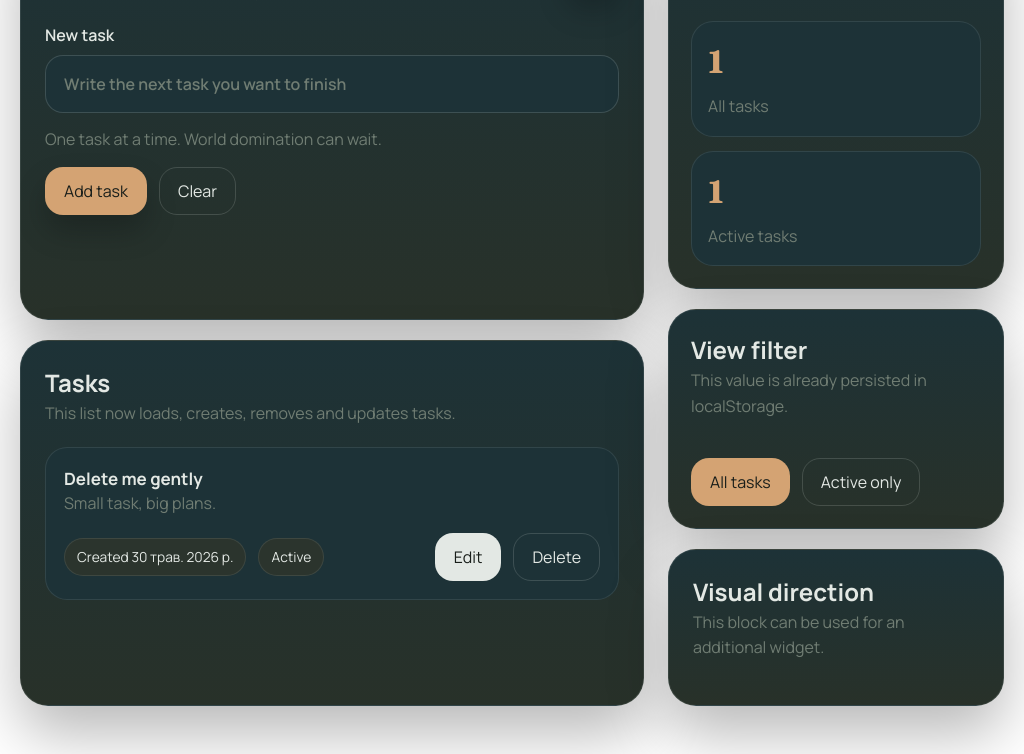
Test: TodoPage › deletes a task
(page scrolled)
Expected: the heading "Delete me gently" is shown, [64,467,203,490]
Click the button "Delete" at (557, 557), box [513,533,600,581]
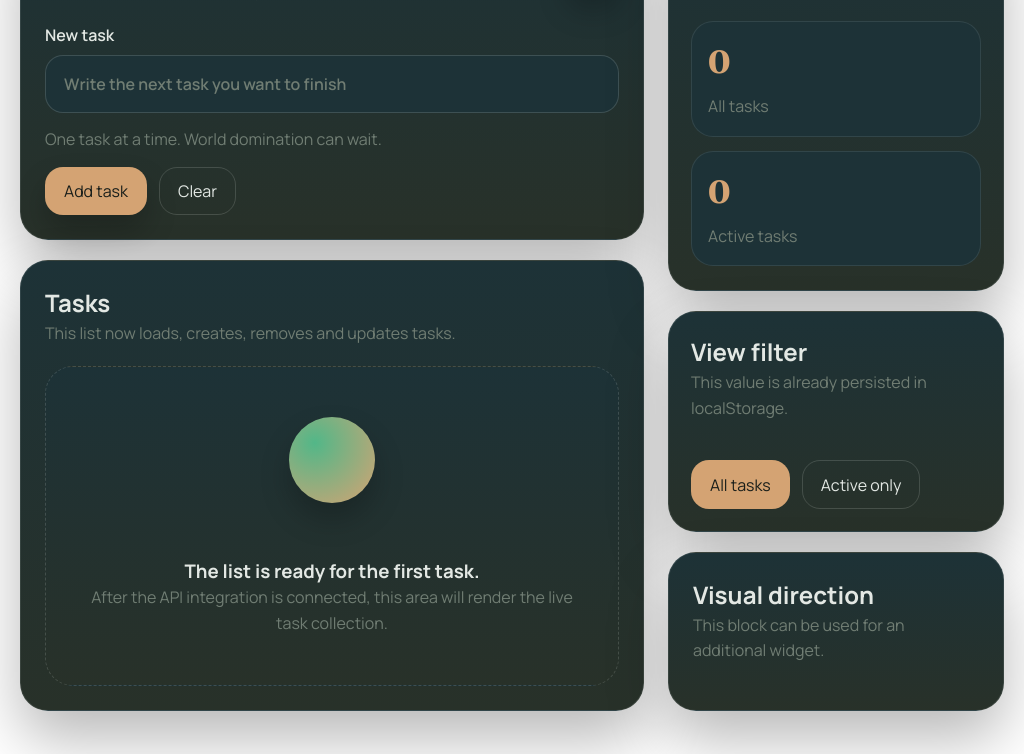
Now the heading "Delete me gently" is gone
